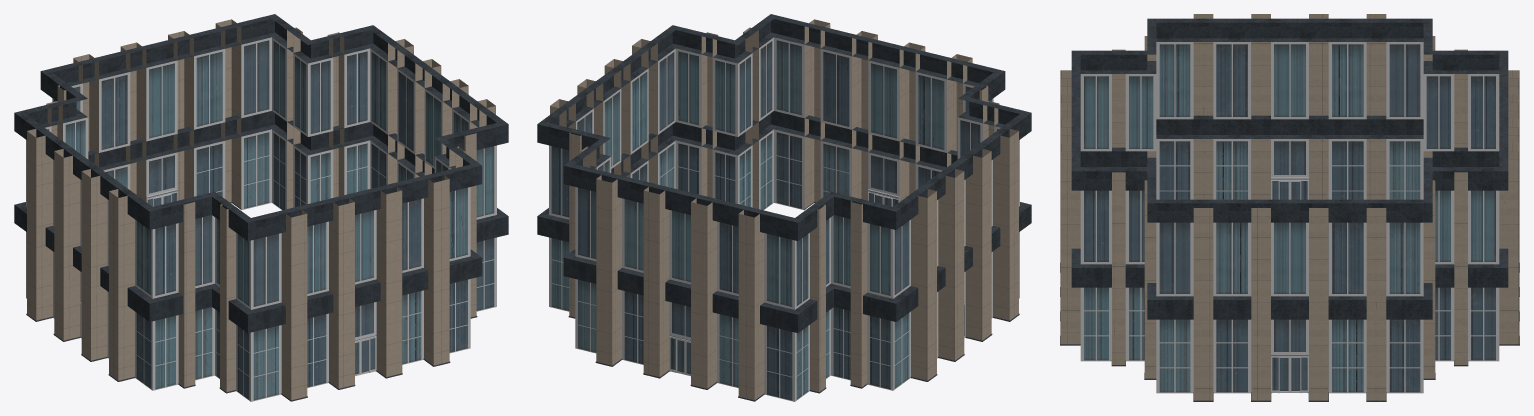
The model's file is jctBld24_B_btm_low.fbx.
3 views of the same model, side by side, from view 1: azimuth 30°, elevation 25°; view 2: azimuth 150°, elevation 25°; view 3: azimuth 270°, elevation 25° (orthographic). The views are drawn at different scales.
Visible parts, largest first — view 1: jctBld24_B_btm_low; view 2: jctBld24_B_btm_low; view 3: jctBld24_B_btm_low.
Part boxes in pixels (x1,y1,x2,y2): jctBld24_B_btm_low: [14, 14, 508, 401]; jctBld24_B_btm_low: [537, 14, 1031, 401]; jctBld24_B_btm_low: [1060, 14, 1519, 401].
Size of the model in its own units: 2582 by 1200 by 2582.
